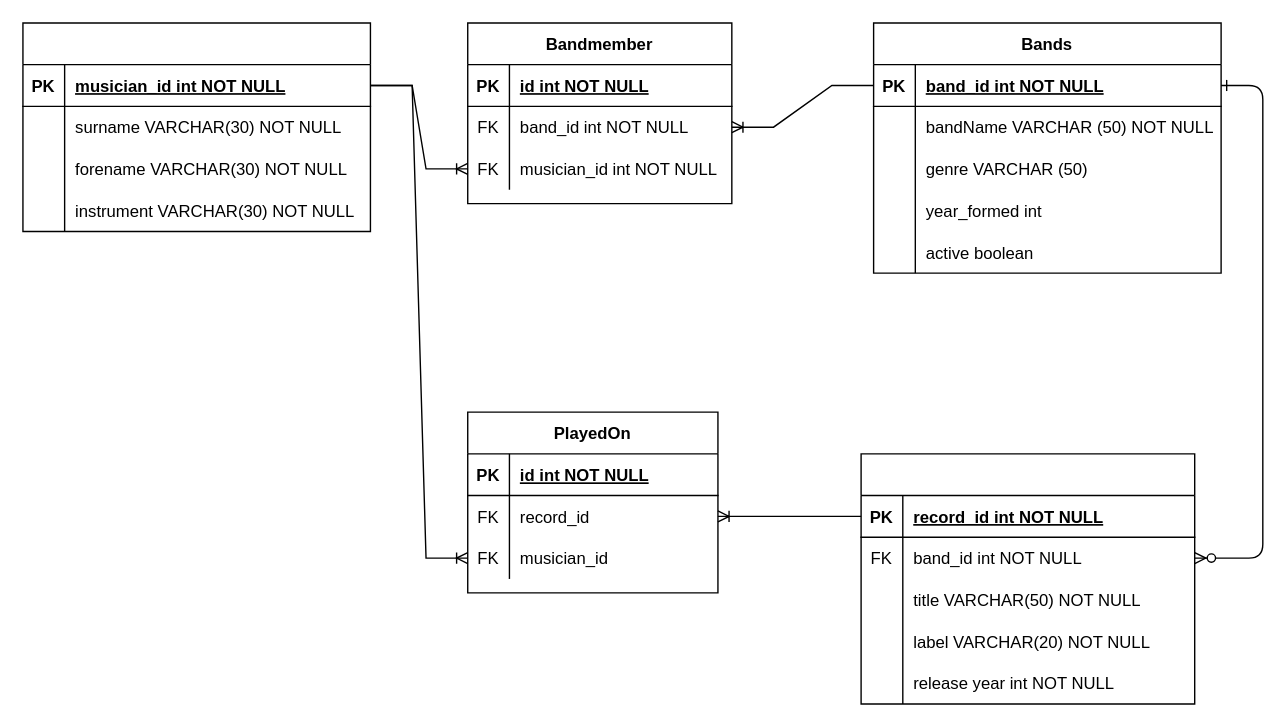
The diagram is 1286 pixels wide and 727 high, and some of its shapes have lost their labels. The box of each missing label's shape, as (x1, y1, x2, y2) in pixels:
Musicians: (22, 22, 370, 231)
Recordings: (860, 452, 1195, 704)
